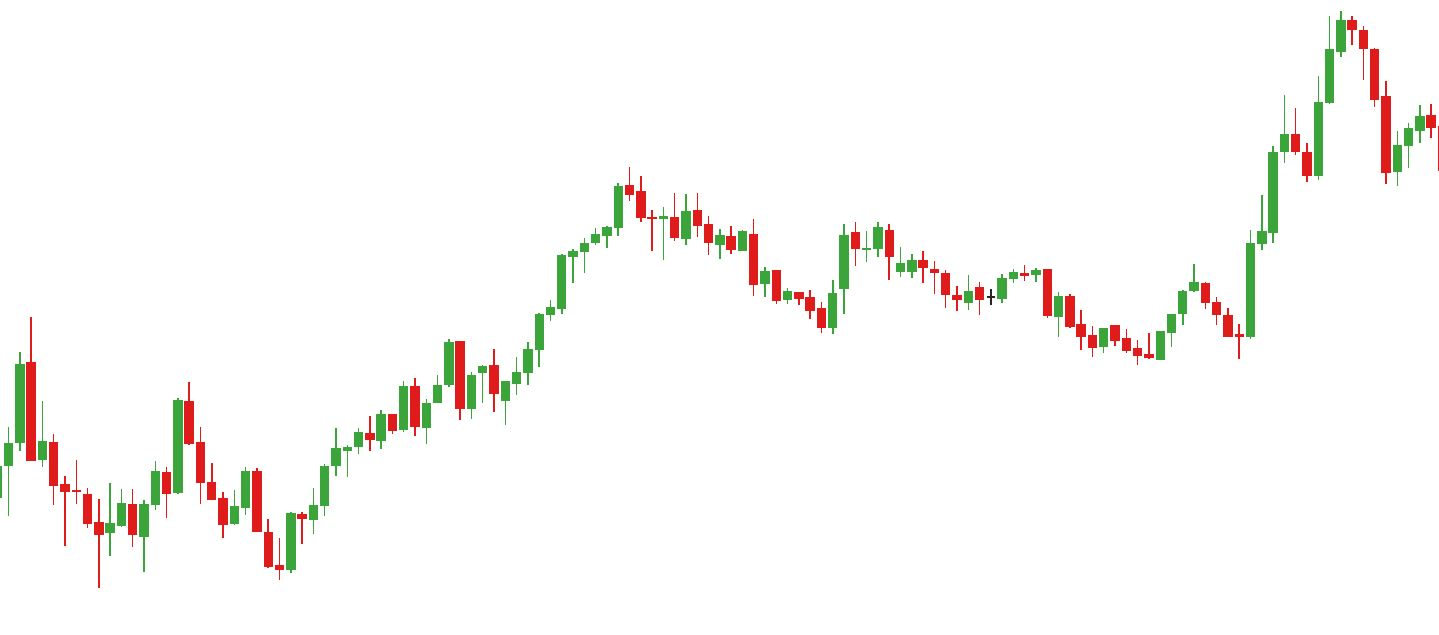buy: (1144, 308, 1245, 367)
